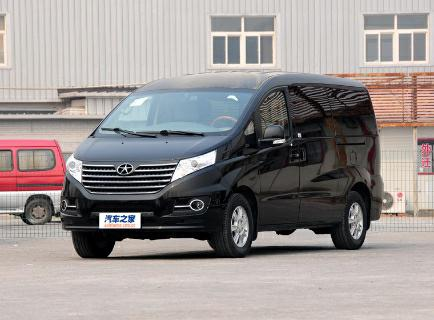江淮-瑞风M5: (61, 69, 389, 260)
